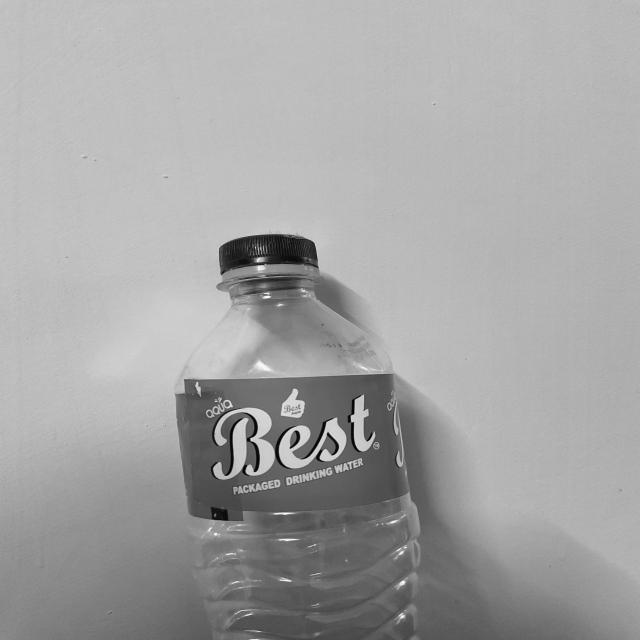Good-cap-Df0S: (213, 232, 326, 282)
